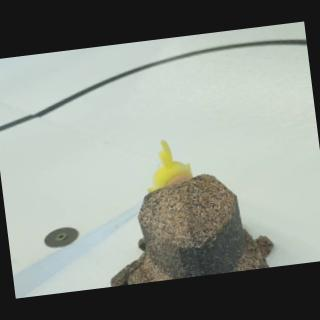teletubby: (148, 140, 193, 193)
